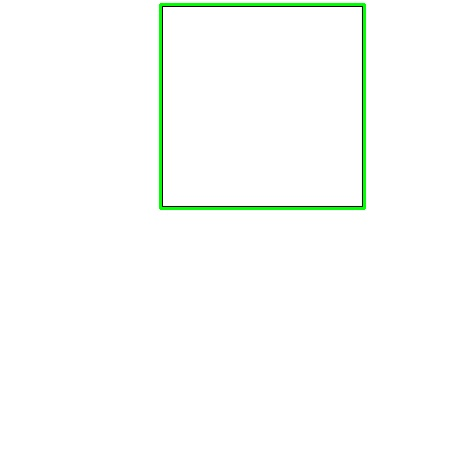line_segment: (159, 3, 366, 210)
